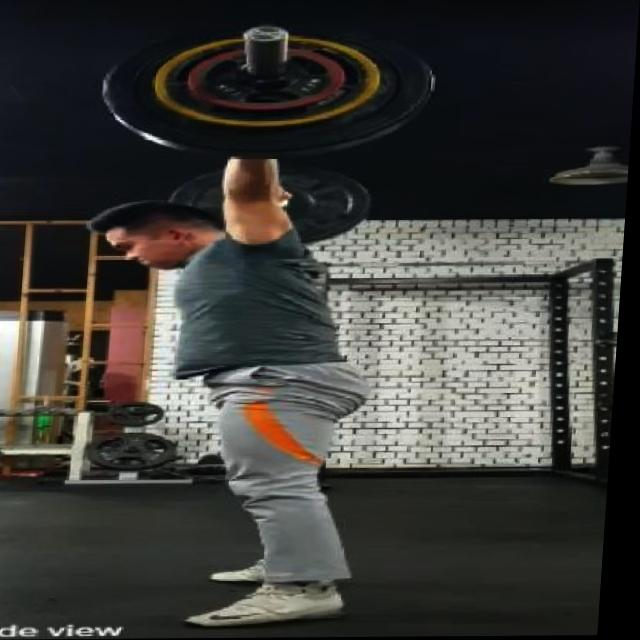barbell: (93, 23, 443, 161)
